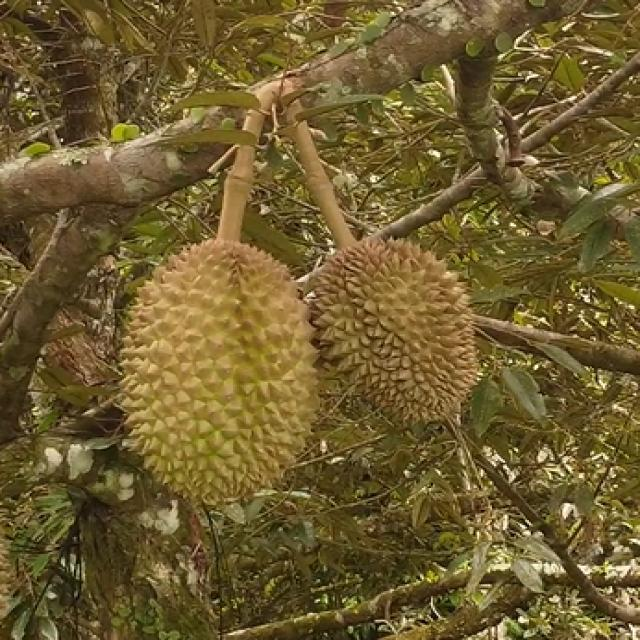mature: (120, 241, 320, 509), (296, 232, 476, 429)
